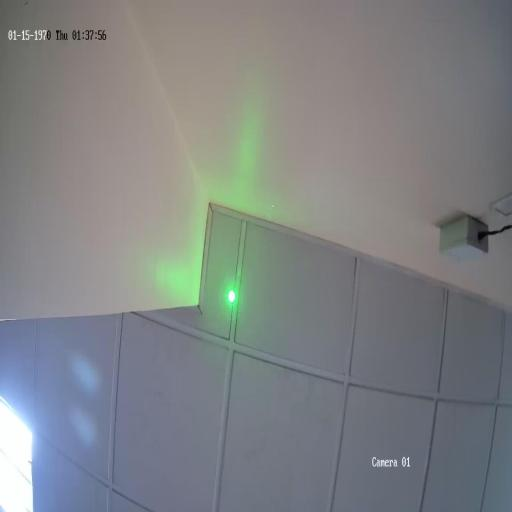laser: (226, 284, 237, 307)
